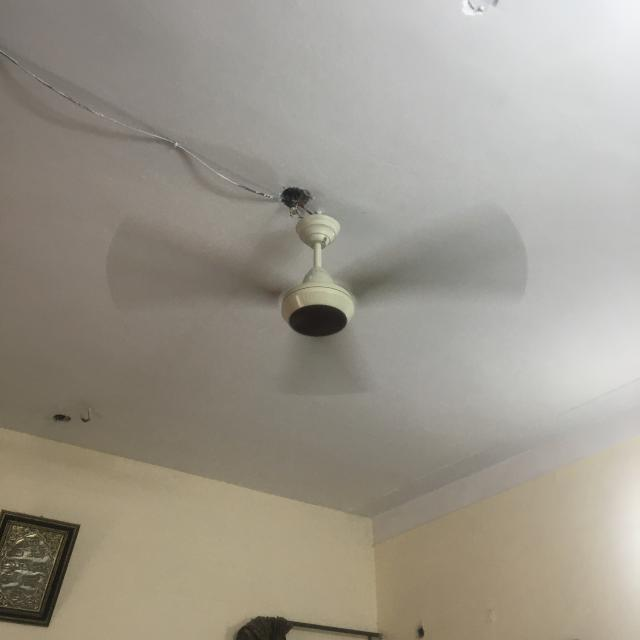on: (99, 194, 538, 403)
